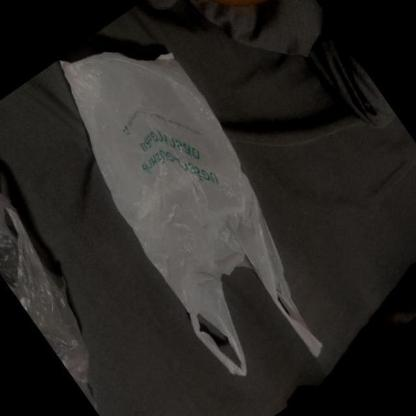Plastic Packaging: (56, 53, 326, 378)
